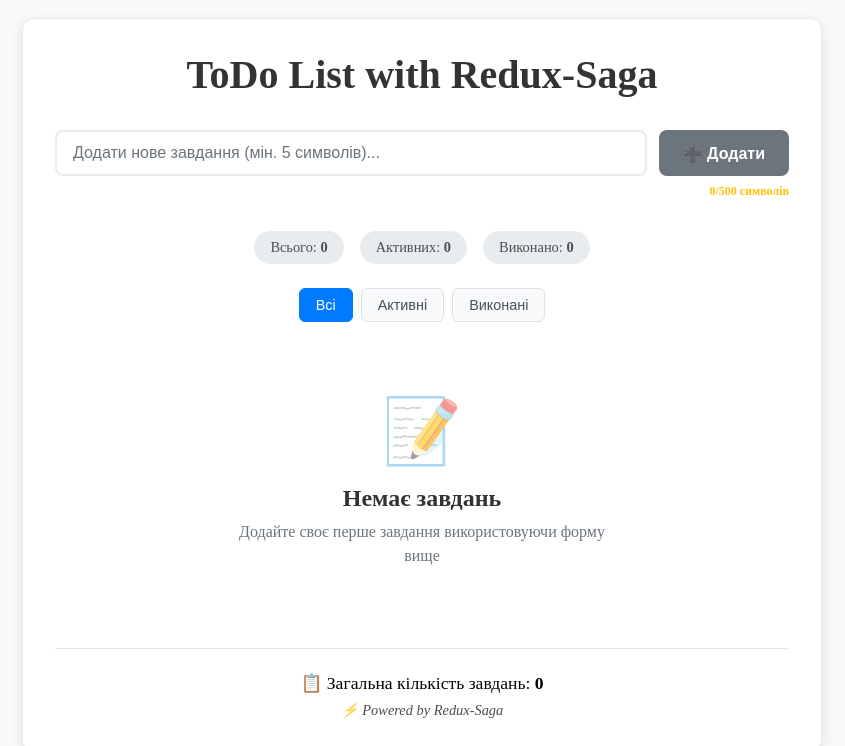
Test: TODO Application Tests › 3. Shows error when clicking "Add" without text
# Убеждаемся, что поле пустое
Clear the field with placeholder "Додати нове завдання (мін. 5 символів)...": (351, 153) [55, 130, 647, 176]
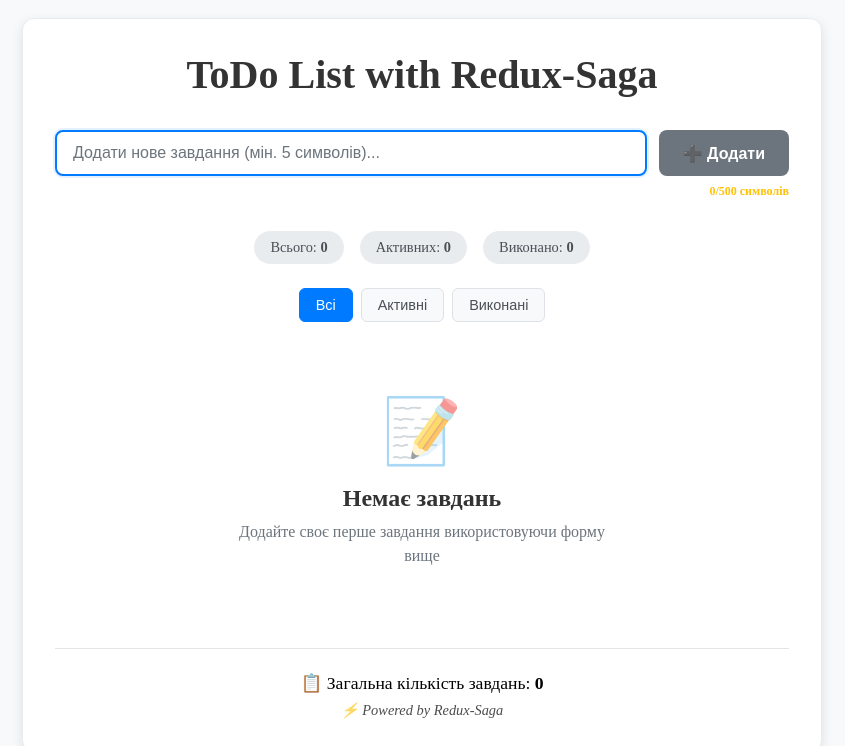
# Пытаемся отправить форму с пустым полем
Click the button "➕ Додати": (724, 153) [659, 130, 789, 176]
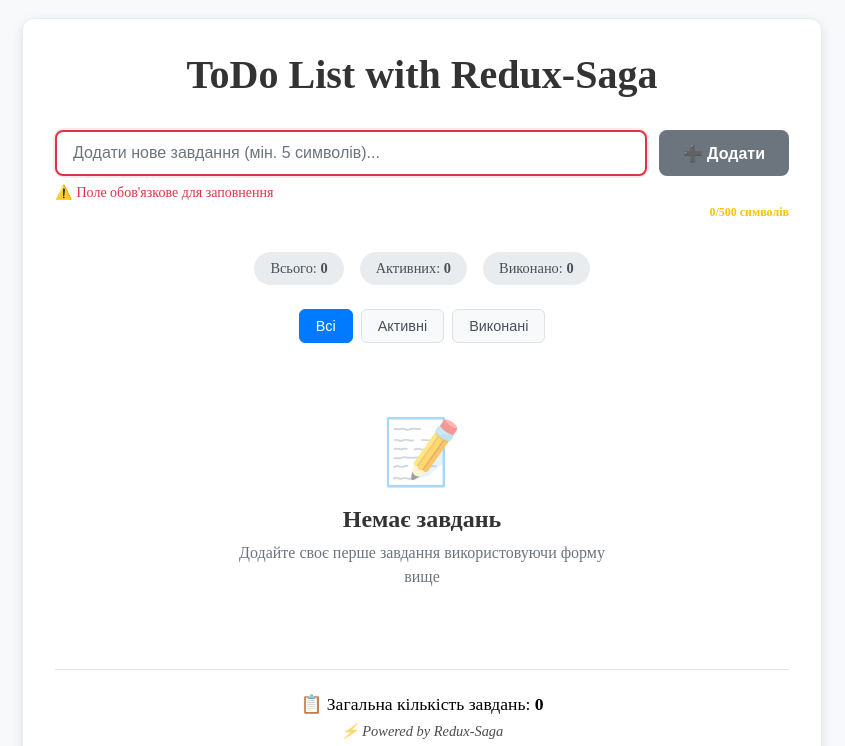
Expected: the text "Поле обов'язкове для заповнення" is shown, [76, 184, 274, 200]
